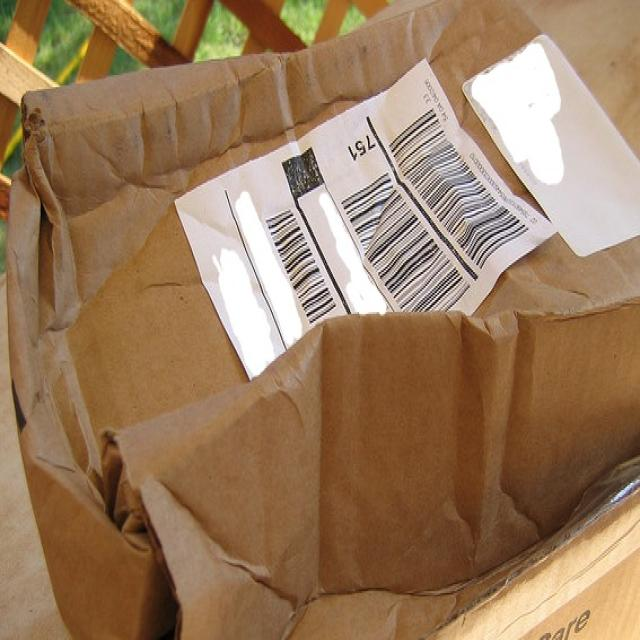Kardus kondisi rusak: (7, 1, 640, 640)
